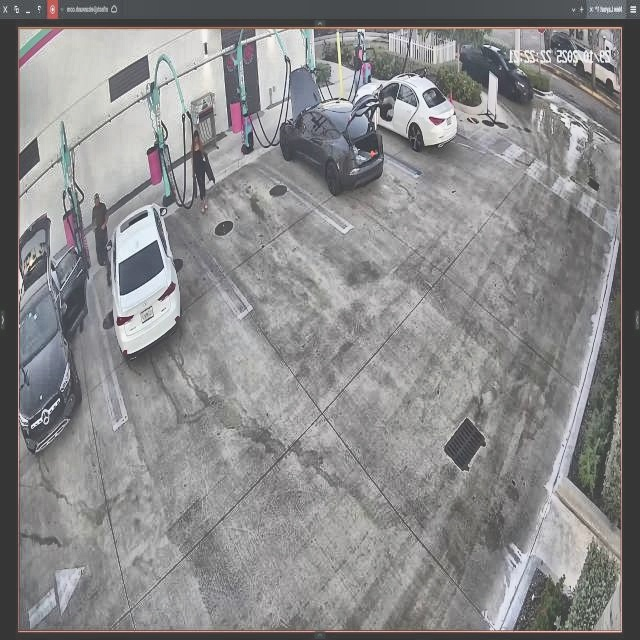Car: (103, 198, 186, 362), (278, 70, 382, 198), (355, 75, 458, 152)
